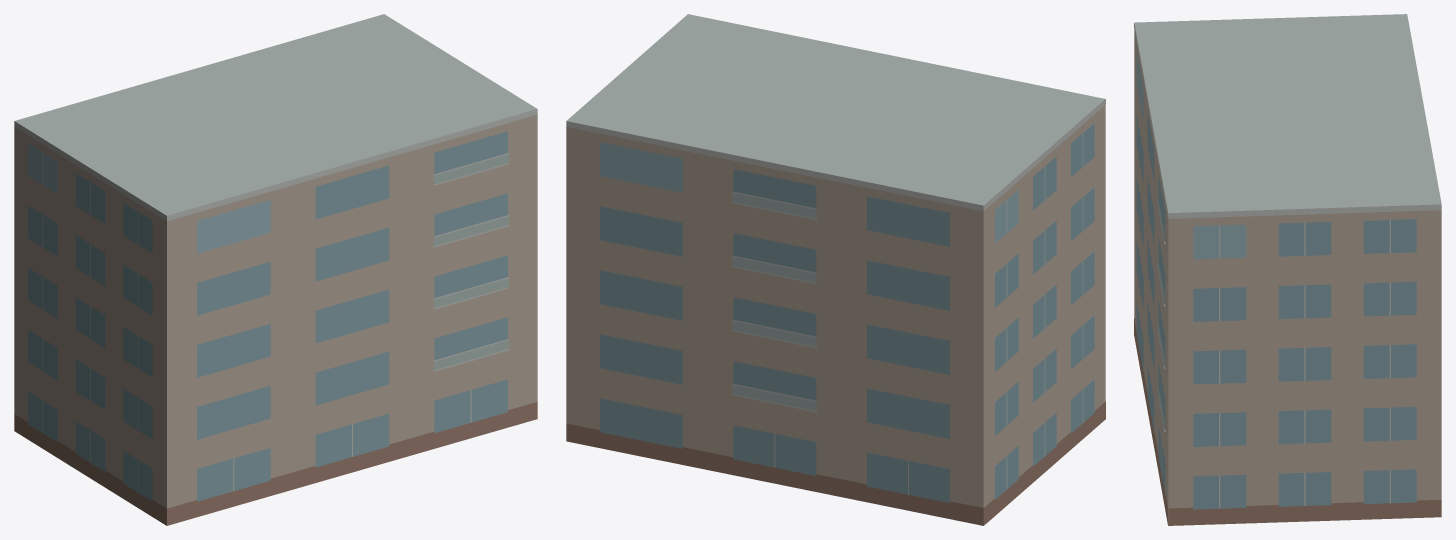
Rendered from survey-upis-32757136.glb.
3 renders of one model, left to right at view 1: azimuth 30°, elevation 25°; view 2: azimuth 150°, elevation 25°; view 3: azimuth 270°, elevation 25°, orthographic. The views are drawn at different scales.
Visible parts, largest first — view 1: survey-upis-32757136.tmp; view 2: survey-upis-32757136.tmp; view 3: survey-upis-32757136.tmp.
Boxes of the visible parts, <box> form: survey-upis-32757136.tmp: <box>14,14,537,525</box>; survey-upis-32757136.tmp: <box>566,14,1105,525</box>; survey-upis-32757136.tmp: <box>1134,14,1441,525</box>.
Size of the model in its own units: 18.38 by 13.45 by 12.
